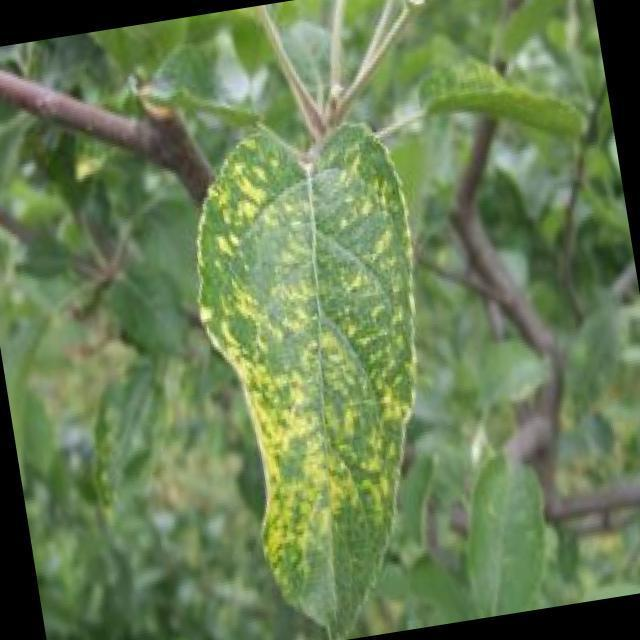Mosaic Virus: (192, 111, 455, 602)
